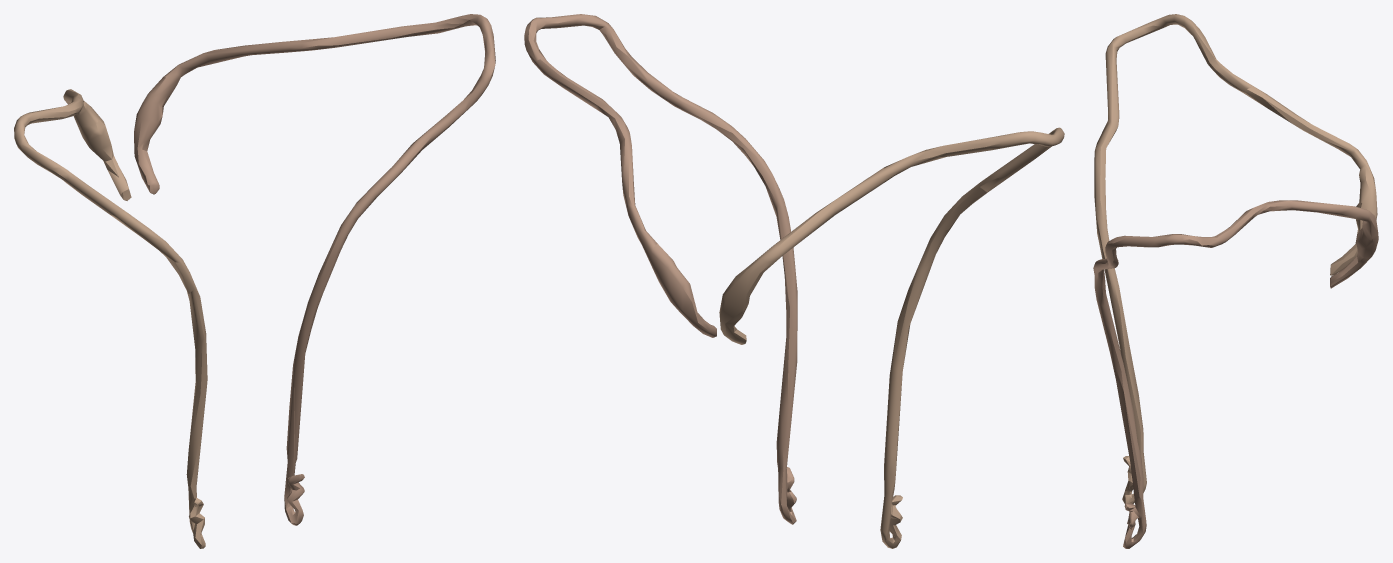
Rendered from ductus-deferens.glb.
The picture shows the model from 3 angles, left to right: view 1: azimuth 30°, elevation 25°; view 2: azimuth 150°, elevation 25°; view 3: azimuth 270°, elevation 25°; orthographic projection. The views are drawn at different scales.
Visible parts, largest first — view 1: FJ3135 Left deferent duct, FJ3140 Right deferent duct; view 2: FJ3135 Left deferent duct, FJ3140 Right deferent duct; view 3: FJ3140 Right deferent duct, FJ3135 Left deferent duct.
Boxes of the visible parts, x1,y1,x2,y2 form: FJ3135 Left deferent duct: (134,14,495,525); FJ3140 Right deferent duct: (14,89,207,548); FJ3135 Left deferent duct: (524,14,797,524); FJ3140 Right deferent duct: (719,127,1064,548); FJ3140 Right deferent duct: (1094,14,1377,504); FJ3135 Left deferent duct: (1093,200,1378,548).
Size of the model in its own units: 0.1866 by 0.1663 by 0.1022.
